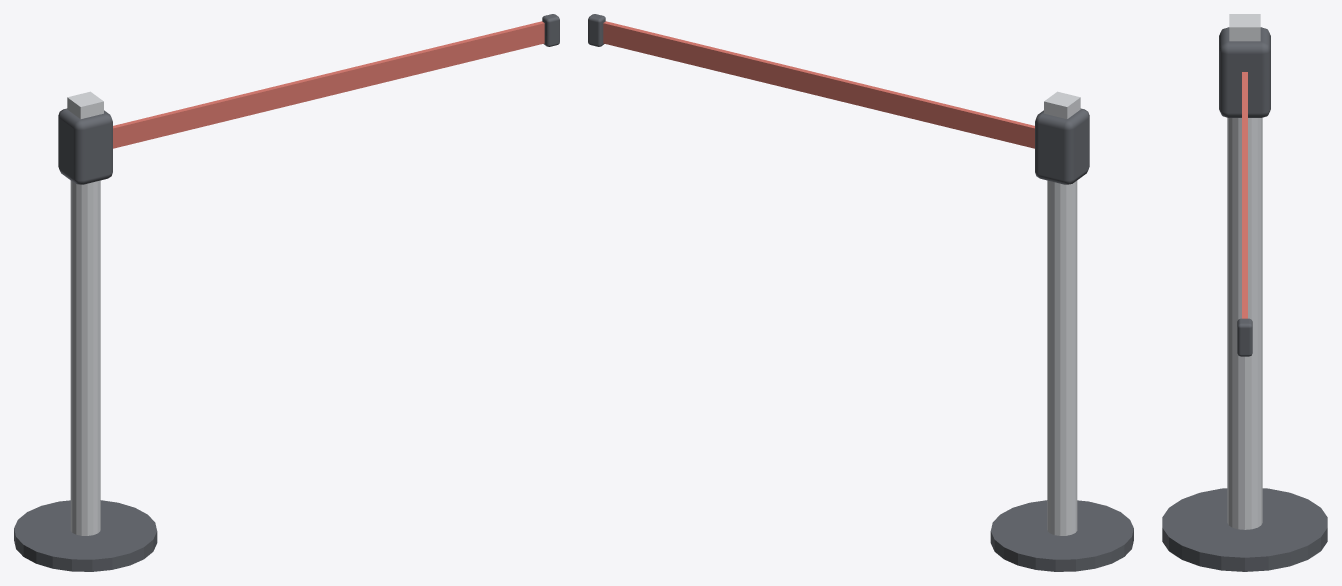
The picture shows the model from 3 angles, left to right: view 1: azimuth 30°, elevation 25°; view 2: azimuth 150°, elevation 25°; view 3: azimuth 270°, elevation 25°; orthographic projection. The views are drawn at different scales.
Visible parts, largest first — view 1: retractable-belt-stanchion; view 2: retractable-belt-stanchion; view 3: retractable-belt-stanchion.
Part boxes in pixels (x1,y1,x2,y2): retractable-belt-stanchion: [14, 14, 559, 571]; retractable-belt-stanchion: [588, 14, 1133, 571]; retractable-belt-stanchion: [1162, 14, 1327, 571].
Bounding box in the file's own units: 1.38 × 1.09 × 0.3166.
